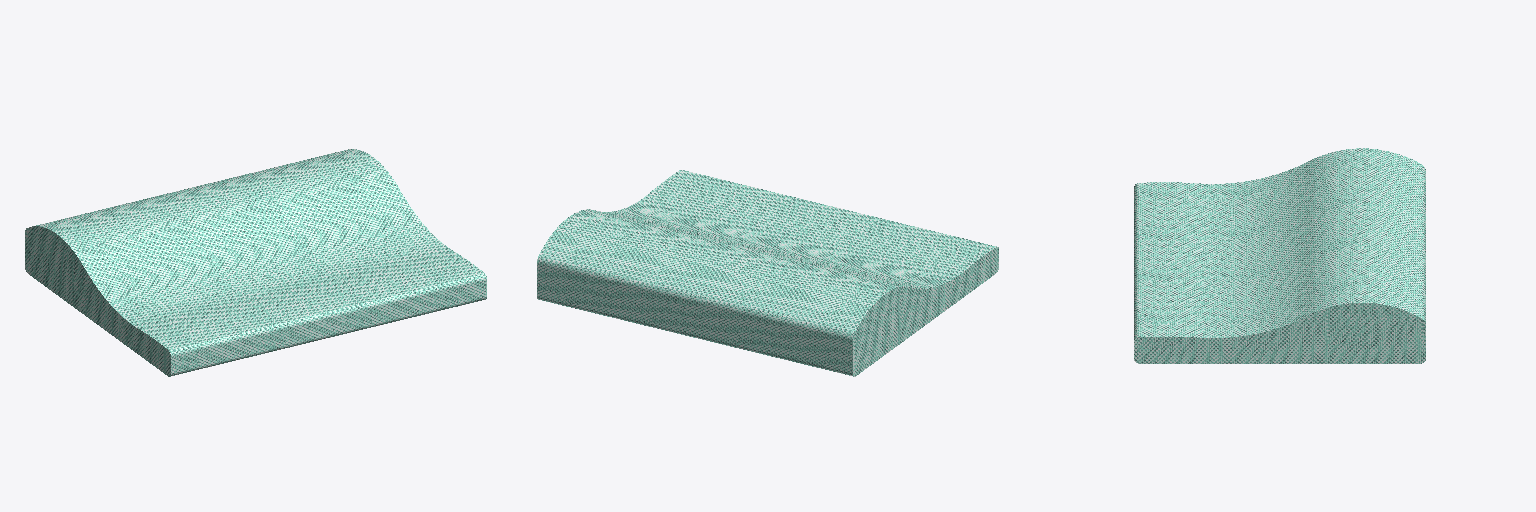
3 renders of one model, left to right at view 1: azimuth 30°, elevation 25°; view 2: azimuth 150°, elevation 25°; view 3: azimuth 270°, elevation 25°, orthographic.
Parts seen in each view (by area): view 1: turquoise.001; view 2: turquoise.001; view 3: turquoise.001.
Boxes of the visible parts, box(x1,y1,x2,y2) form: turquoise.001: box(25, 149, 486, 376); turquoise.001: box(537, 170, 998, 376); turquoise.001: box(1134, 148, 1425, 363).
Size of the model in its own units: 5.66 by 1.04 by 4.53.
Materials: 1 (1 with a texture image).